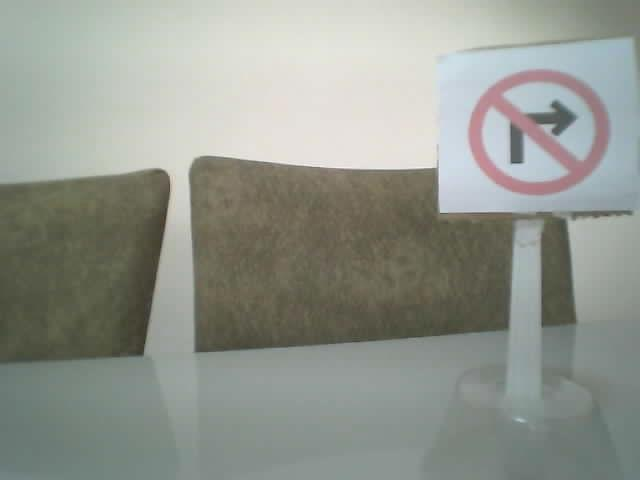R-4b_proibido-direita: (466, 68, 608, 196)
